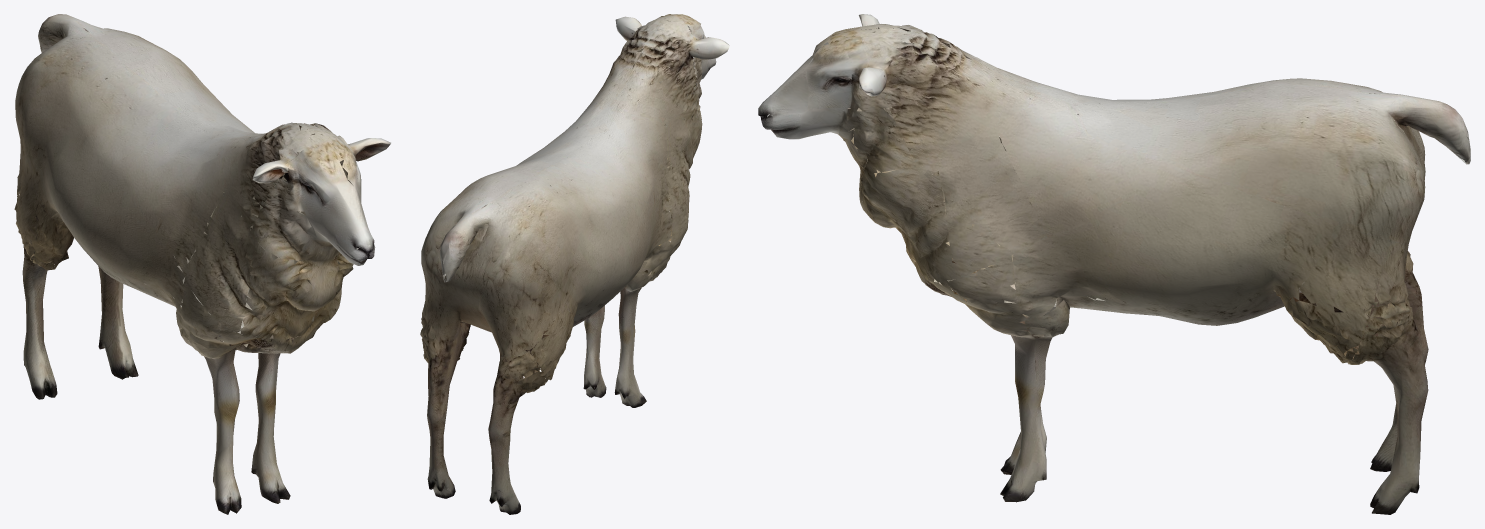
The model's file is schaf.glb.
3 views of the same model, side by side, from view 1: azimuth 30°, elevation 25°; view 2: azimuth 150°, elevation 25°; view 3: azimuth 270°, elevation 25° (orthographic). The views are drawn at different scales.
Size of the model in its own units: 0.6254 by 1.35 by 1.89.
1 material, 1 textured.
